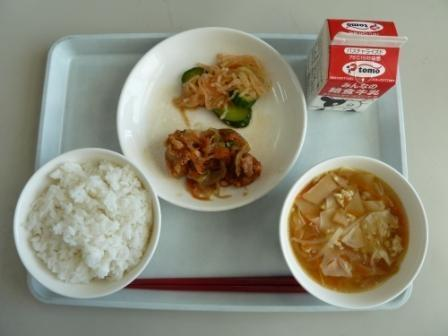Meat: (152, 129, 262, 196)
Milk: (306, 11, 408, 117)
Rice: (18, 157, 159, 285)
Salad: (166, 49, 274, 120)
Soups: (289, 160, 427, 291)
